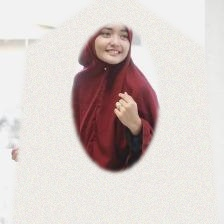Mukena: (6, 22, 224, 224)
